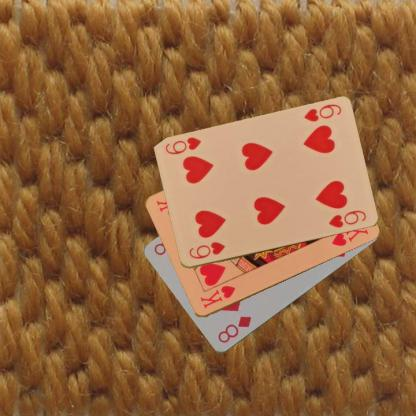6h: (301, 102, 343, 124), (186, 239, 227, 261)
8d: (215, 314, 253, 345)
Kh: (197, 283, 237, 310)
